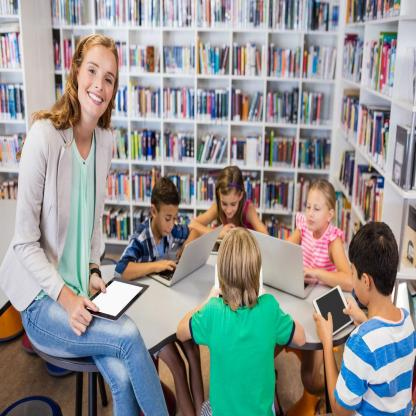head: (348, 212, 402, 306), (74, 29, 121, 121), (216, 225, 263, 306), (303, 174, 340, 240), (148, 178, 184, 240), (217, 163, 242, 219)
